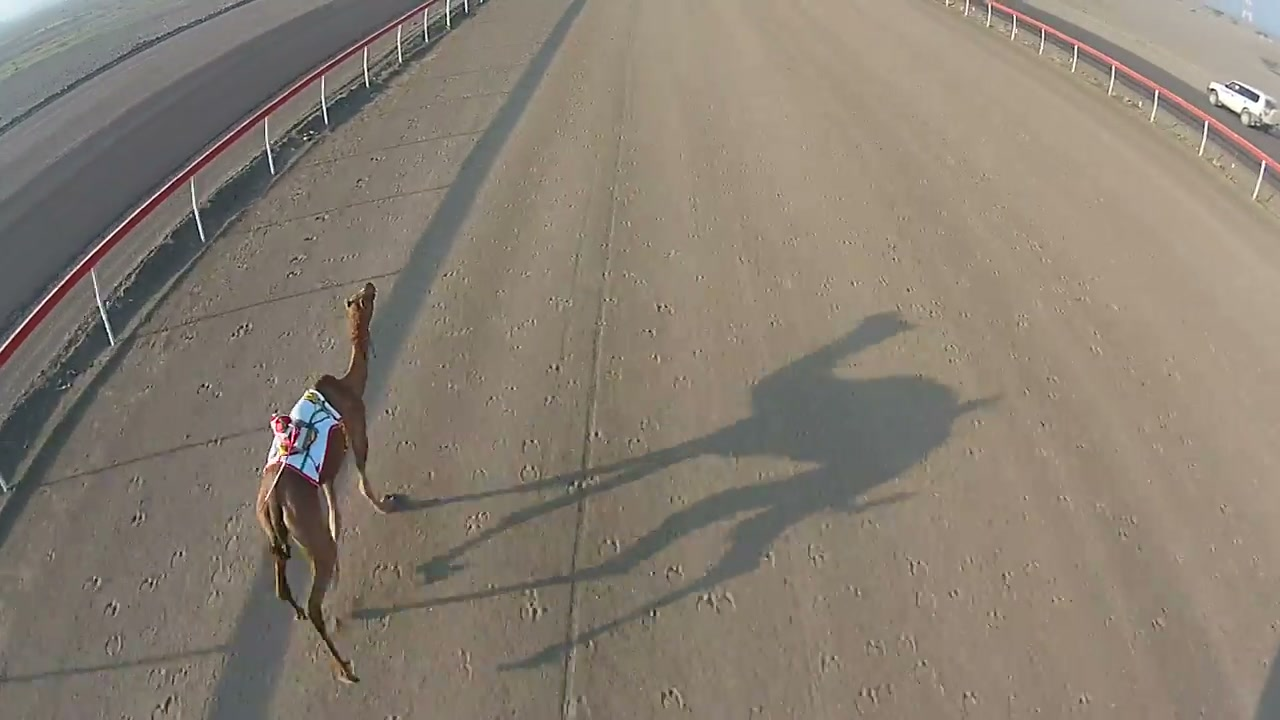animal_footprint: (64, 169, 315, 651), (462, 355, 702, 717)
